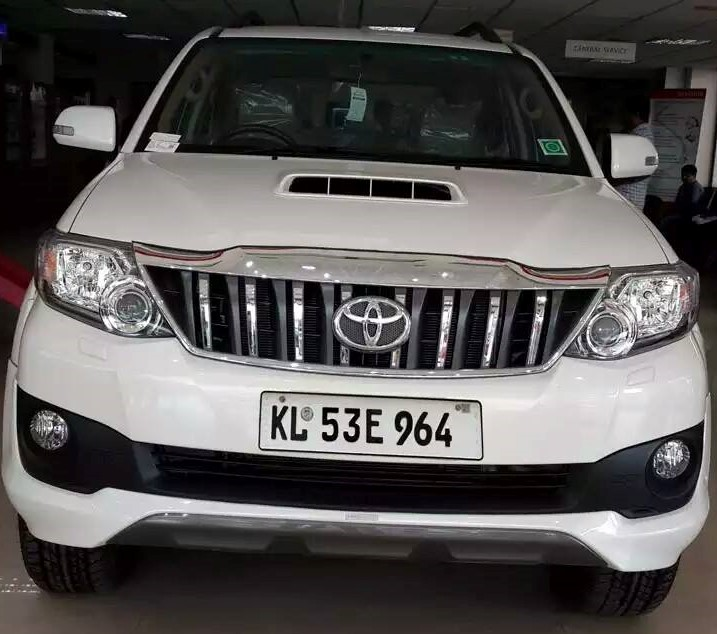KL53E964: (258, 389, 484, 462)
